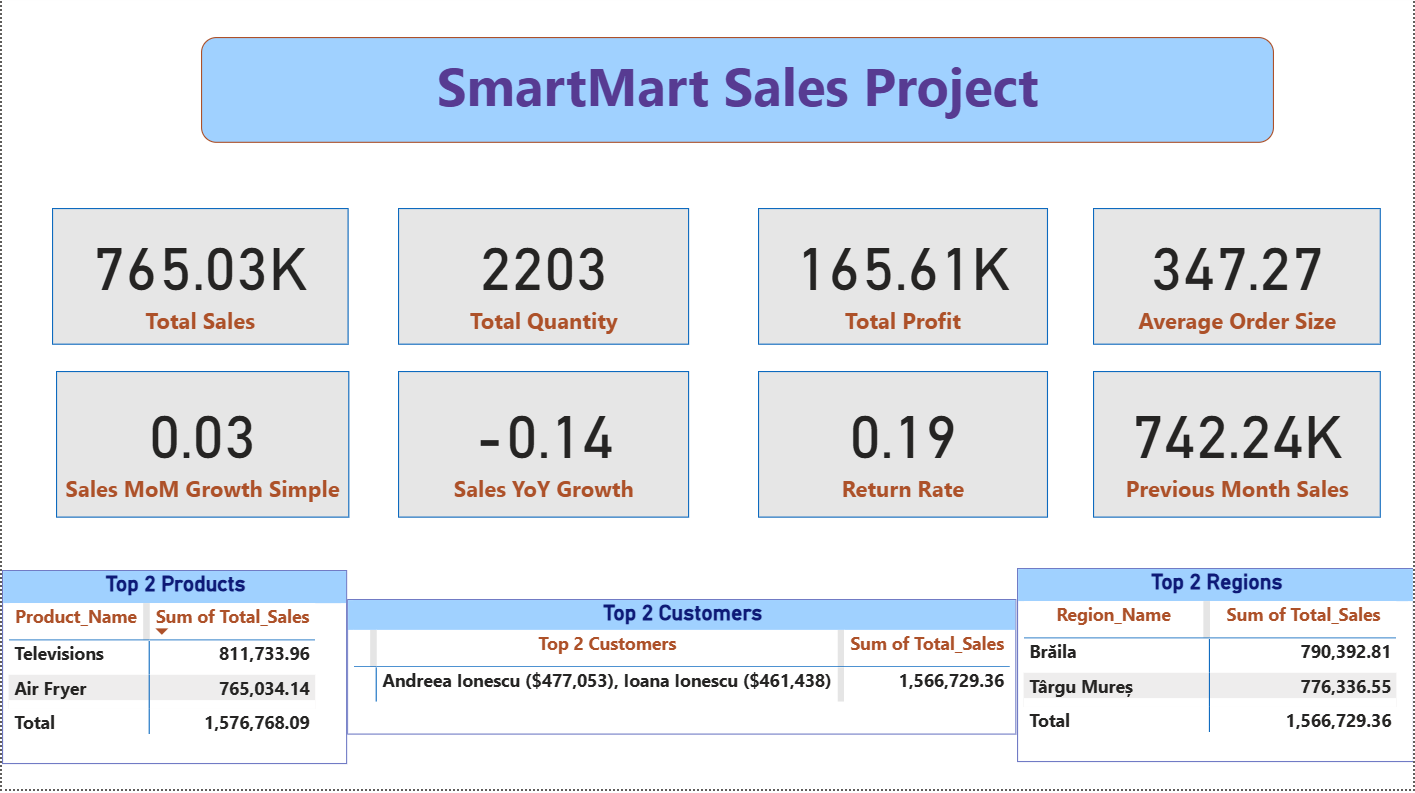

What the dashboard file says about the page in this screenshot:
{"tool":"powerbi","page":{"name":"Dashboard Summary","canvas":[1280,720],"ordinal":0},"visuals":[{"type":"card","fields":{"Values":["Orders.Total Sales"]},"box":[45.8,193.5,268.8,124.1],"z":0},{"type":"card","fields":{"Values":["Orders.Total Quantity"]},"box":[358.9,193.5,264.4,124.1],"z":1},{"type":"card","fields":{"Values":["Orders.Total Profit"]},"box":[685.3,193.5,262.9,124.1],"z":2},{"type":"card","fields":{"Values":["Orders.Average Order Size"]},"box":[989.5,193.5,261.4,124.1],"z":3},{"type":"card","fields":{"Values":["Orders.Return Rate"]},"box":[685.3,341.2,262.9,132.9],"z":5},{"type":"card","fields":{"Values":["Orders.Sales YoY Growth"]},"box":[358.9,341.2,264.4,132.9],"z":6},{"type":"card","fields":{"Values":["Orders.Sales MoM Growth Simple"]},"box":[48.7,341.2,265.8,132.9],"z":8},{"type":"card","fields":{"Values":["Orders.Previous Month Sales"]},"box":[989.5,341.2,261.4,132.9],"z":9},{"type":"pivotTable","title":"Top 2 Customers","fields":{"Values":["Top Customers.Top 2 Customers","Sum(Top Customers.Total_Sales)"]},"box":[313.1,547.9,607,122.6],"z":10},{"type":"pivotTable","title":"Top 2 Products","fields":{"Rows":["Top Products.Product_Name"],"Values":["Sum(Top Products.Total_Sales)"]},"box":[0,521.4,313.1,175.8],"z":11},{"type":"pivotTable","title":"Top 2 Regions","fields":{"Rows":["Top Regions.Region_Name"],"Values":["Sum(Top Regions.Total_Sales)"]},"box":[920.1,519.9,360.4,175.8],"z":12},{"type":"textbox","box":[180.2,38.4,973.3,96],"z":14}]}

Visuals, with their boxes in screenshot pixels (x1, y1, x2, y2), scaled from the page's 1280x720 canvas onto the 1415x793 screenshot:
card - Orders.Total Sales: [left=51, top=213, right=348, bottom=350]
card - Orders.Total Quantity: [left=397, top=213, right=689, bottom=350]
card - Orders.Total Profit: [left=758, top=213, right=1048, bottom=350]
card - Orders.Average Order Size: [left=1094, top=213, right=1383, bottom=350]
card - Orders.Return Rate: [left=758, top=376, right=1048, bottom=522]
card - Orders.Sales YoY Growth: [left=397, top=376, right=689, bottom=522]
card - Orders.Sales MoM Growth Simple: [left=54, top=376, right=348, bottom=522]
card - Orders.Previous Month Sales: [left=1094, top=376, right=1383, bottom=522]
"Top 2 Customers" pivotTable: [left=346, top=603, right=1017, bottom=738]
"Top 2 Products" pivotTable: [left=0, top=574, right=346, bottom=768]
"Top 2 Regions" pivotTable: [left=1017, top=573, right=1414, bottom=766]
textbox: [left=199, top=42, right=1275, bottom=148]
